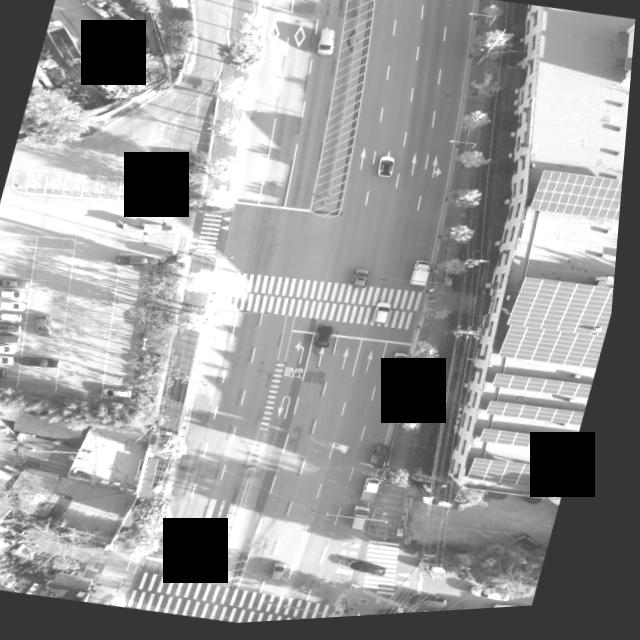car: (116, 250, 166, 276), (477, 587, 525, 613), (25, 351, 73, 375), (311, 28, 344, 62), (355, 561, 400, 584), (428, 496, 471, 520), (0, 271, 39, 295), (392, 352, 421, 384), (35, 310, 65, 340), (372, 301, 401, 332), (356, 506, 384, 538), (0, 295, 36, 317), (317, 326, 344, 355), (352, 268, 380, 295), (0, 327, 33, 349), (104, 385, 144, 403), (0, 307, 34, 327), (378, 156, 401, 185), (0, 285, 35, 303), (276, 563, 301, 587), (0, 348, 26, 369), (0, 319, 30, 336), (0, 339, 28, 357), (502, 605, 543, 615), (0, 361, 17, 383)
medium_truck: (39, 14, 102, 75)
small_truck: (411, 262, 440, 295), (418, 596, 461, 616), (374, 447, 401, 477), (364, 480, 391, 509)
